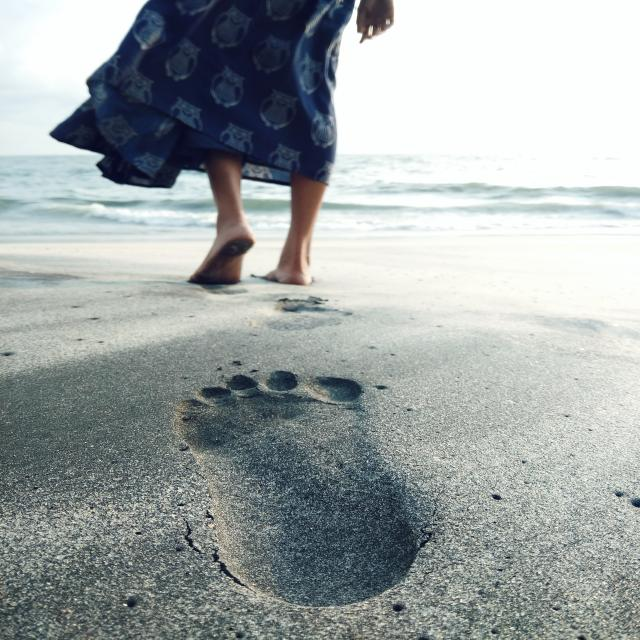human_footprint: (139, 348, 480, 632)
